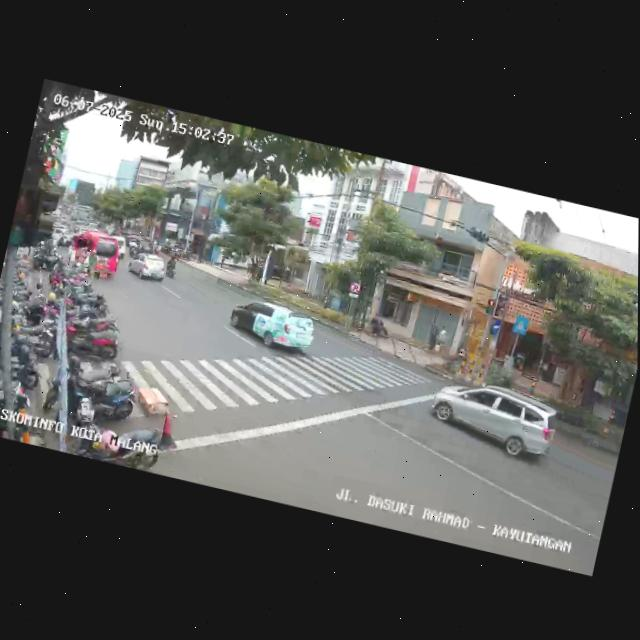car: (426, 370, 565, 470), (223, 293, 321, 362), (62, 225, 125, 283), (125, 249, 169, 286)
motorcycle: (163, 255, 180, 282)
